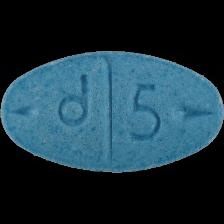57844-117: (0, 0, 224, 224)
